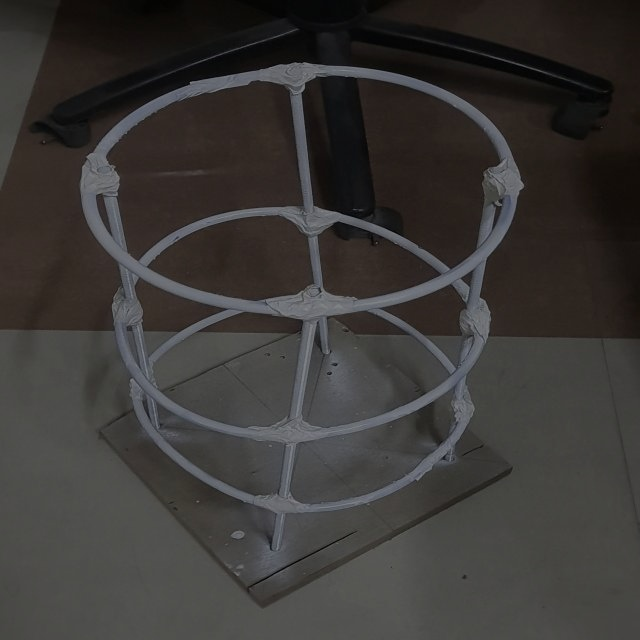silo: (82, 59, 508, 558)
